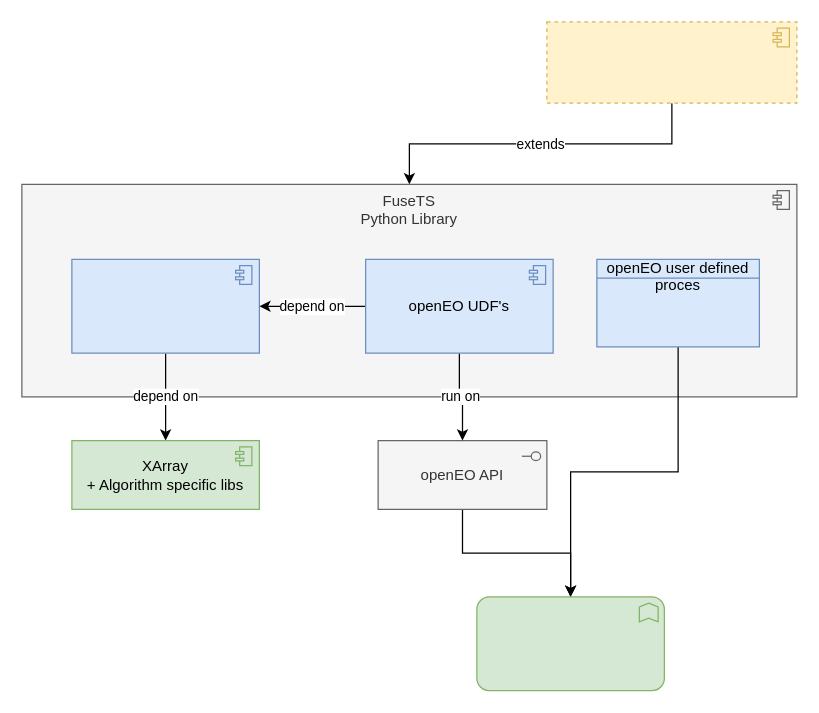
This 819x713 diagram has some shape labels left out. Here are the shapes that lost their labels. From the top down, the centre of each, then its label:
the point at 671,62: FuseTS Plugin library
the point at 165,305: Core Algorithms
the point at 570,643: FuseTS On Demand Service
